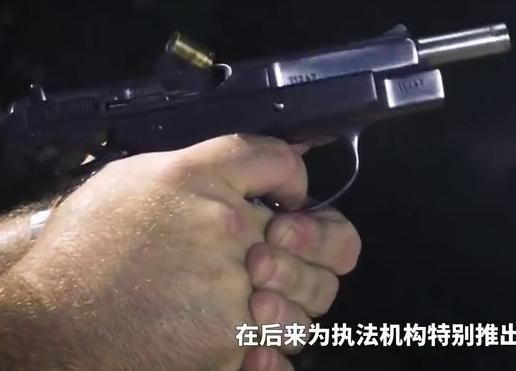gun: (1, 1, 516, 371)
